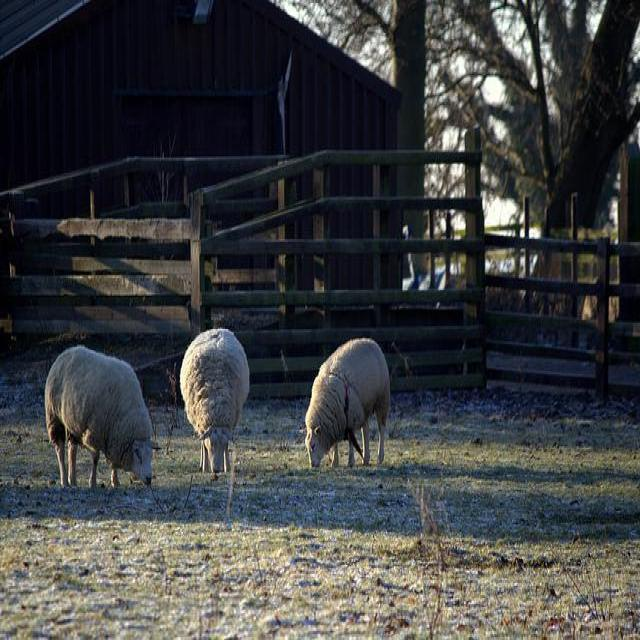Sheep: (42, 346, 163, 494), (178, 324, 253, 474), (301, 340, 389, 467)
